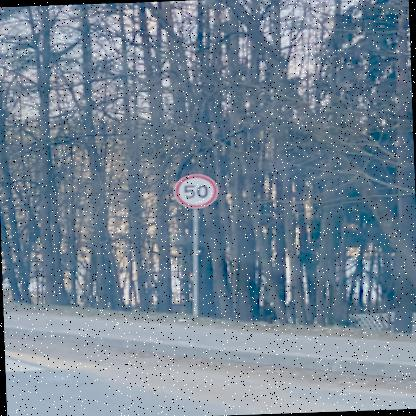speedlimit: (173, 173, 216, 207)
